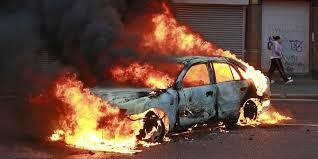fire: (57, 0, 272, 152)
